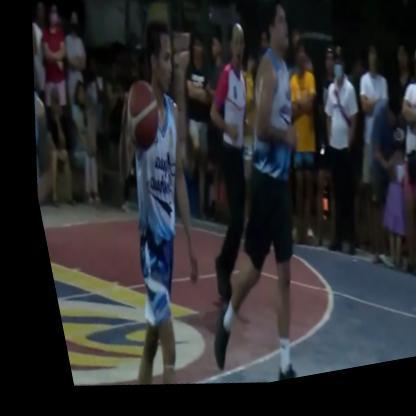basketball: (105, 73, 168, 167)
